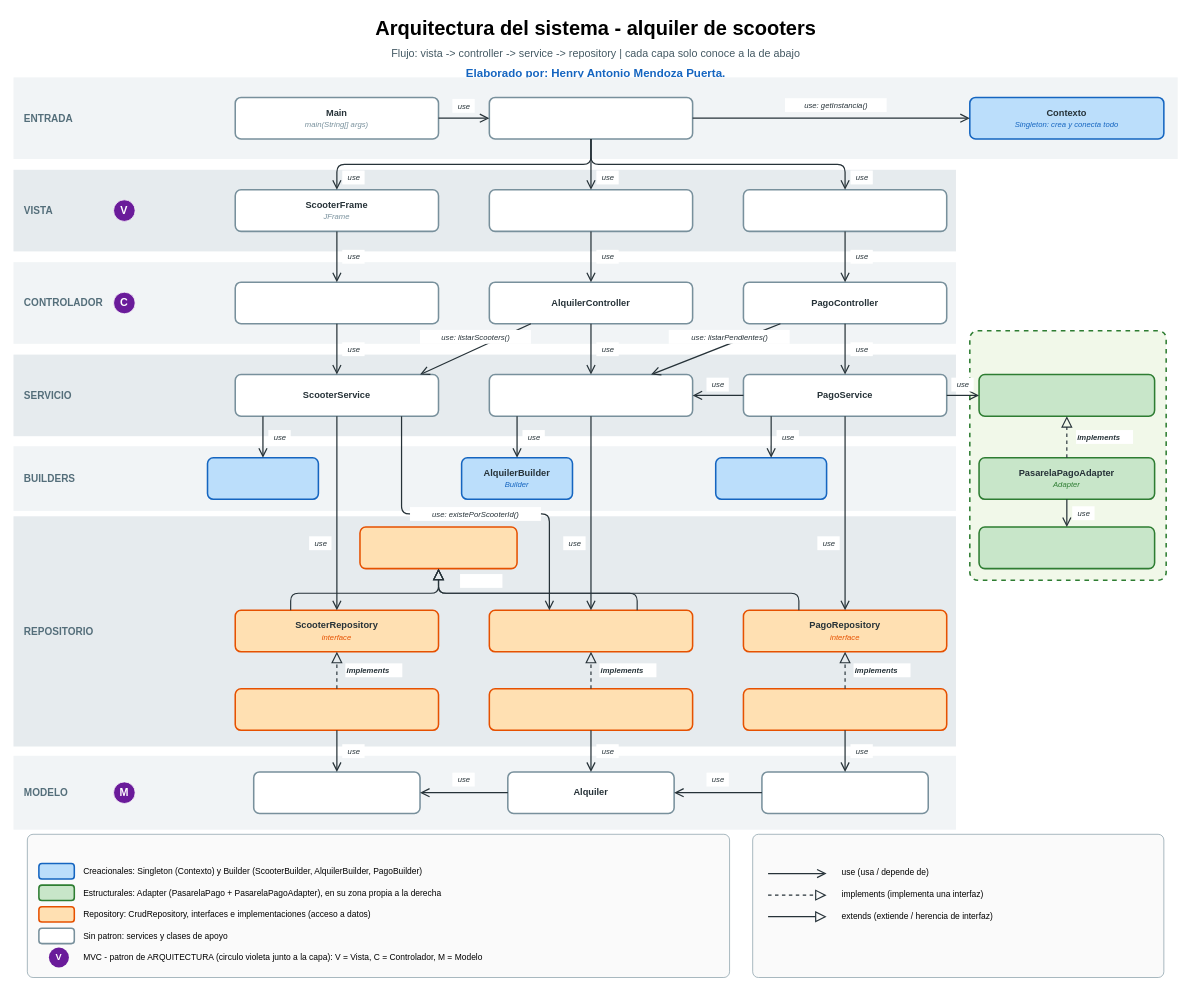
The diagram is 1190 pixels wide and 991 high, and some of its shapes have lost their labels. Here are the shapes that lost their labels. From the top down, the box of each, then its label:
(488, 96, 693, 139): MainFrame menu principal
(488, 189, 693, 232): AlquilerFrame JFrame
(742, 189, 947, 232): PagoFrame JFrame
(234, 281, 439, 324): ScooterController
(488, 373, 693, 417): AlquilerService
(978, 373, 1155, 417): PasarelaPago Adapter (interfaz propia)
(969, 330, 1167, 581): ZONA ADAPTER integracion externa
(206, 457, 319, 500): ScooterBuilder Builder
(715, 457, 827, 500): PagoBuilder Builder
(359, 526, 517, 569): CrudRepository<T, ID> interface
(978, 526, 1155, 569): ServicioPagoExterno libreria de terceros
(460, 574, 502, 588): extends
(488, 609, 693, 652): AlquilerRepository interface
(234, 688, 439, 731): ScooterRepositoryImpl
(488, 688, 693, 731): AlquilerRepositoryImpl
(742, 688, 947, 731): PagoRepositoryImpl
(253, 771, 420, 814): Scooter
(761, 771, 929, 814): Pago
(27, 834, 730, 978): PATRONES (el color de la caja indica el grupo)
(752, 834, 1164, 978): RELACIONES
